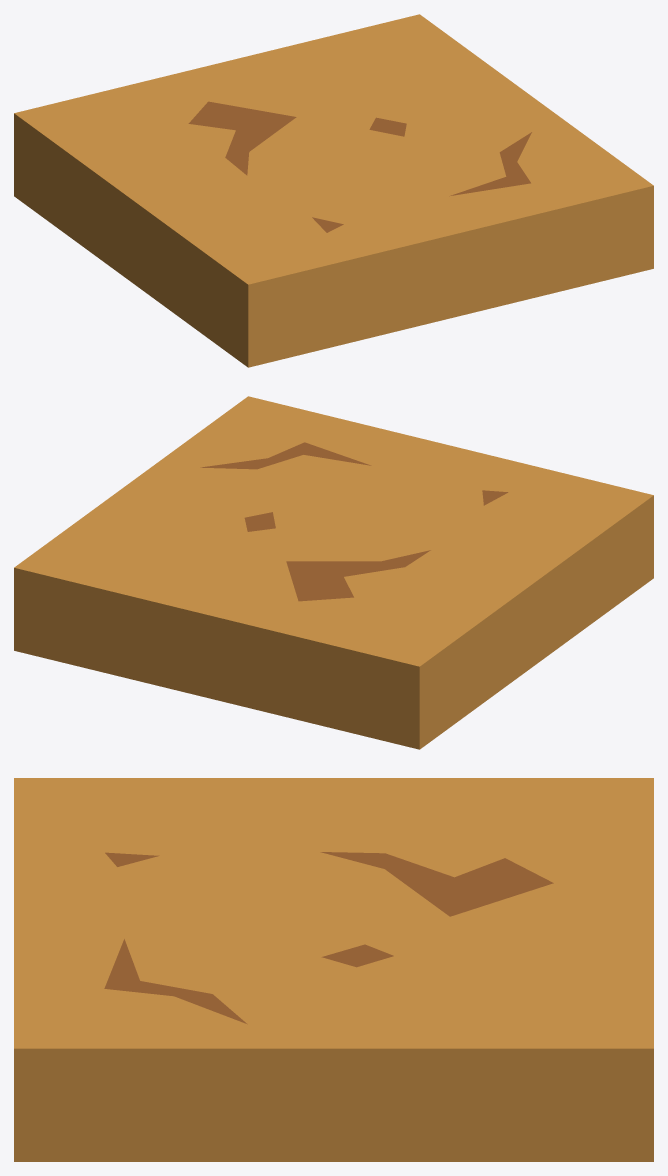
File: Ground_4_4.glb
3 renders of one model, top to bottom at view 1: azimuth 30°, elevation 25°; view 2: azimuth 150°, elevation 25°; view 3: azimuth 270°, elevation 25°, orthographic. The views are drawn at different scales.
Parts seen in each view (by area): view 1: Ground_4_4; view 2: Ground_4_4; view 3: Ground_4_4.
Boxes of the visible parts, box(x1,y1,x2,y2) form: Ground_4_4: box(14, 14, 653, 367); Ground_4_4: box(14, 396, 653, 749); Ground_4_4: box(14, 778, 653, 1161).
Bounding box in the file's own units: 2 × 0.3912 × 2.
1 material, 1 textured.
